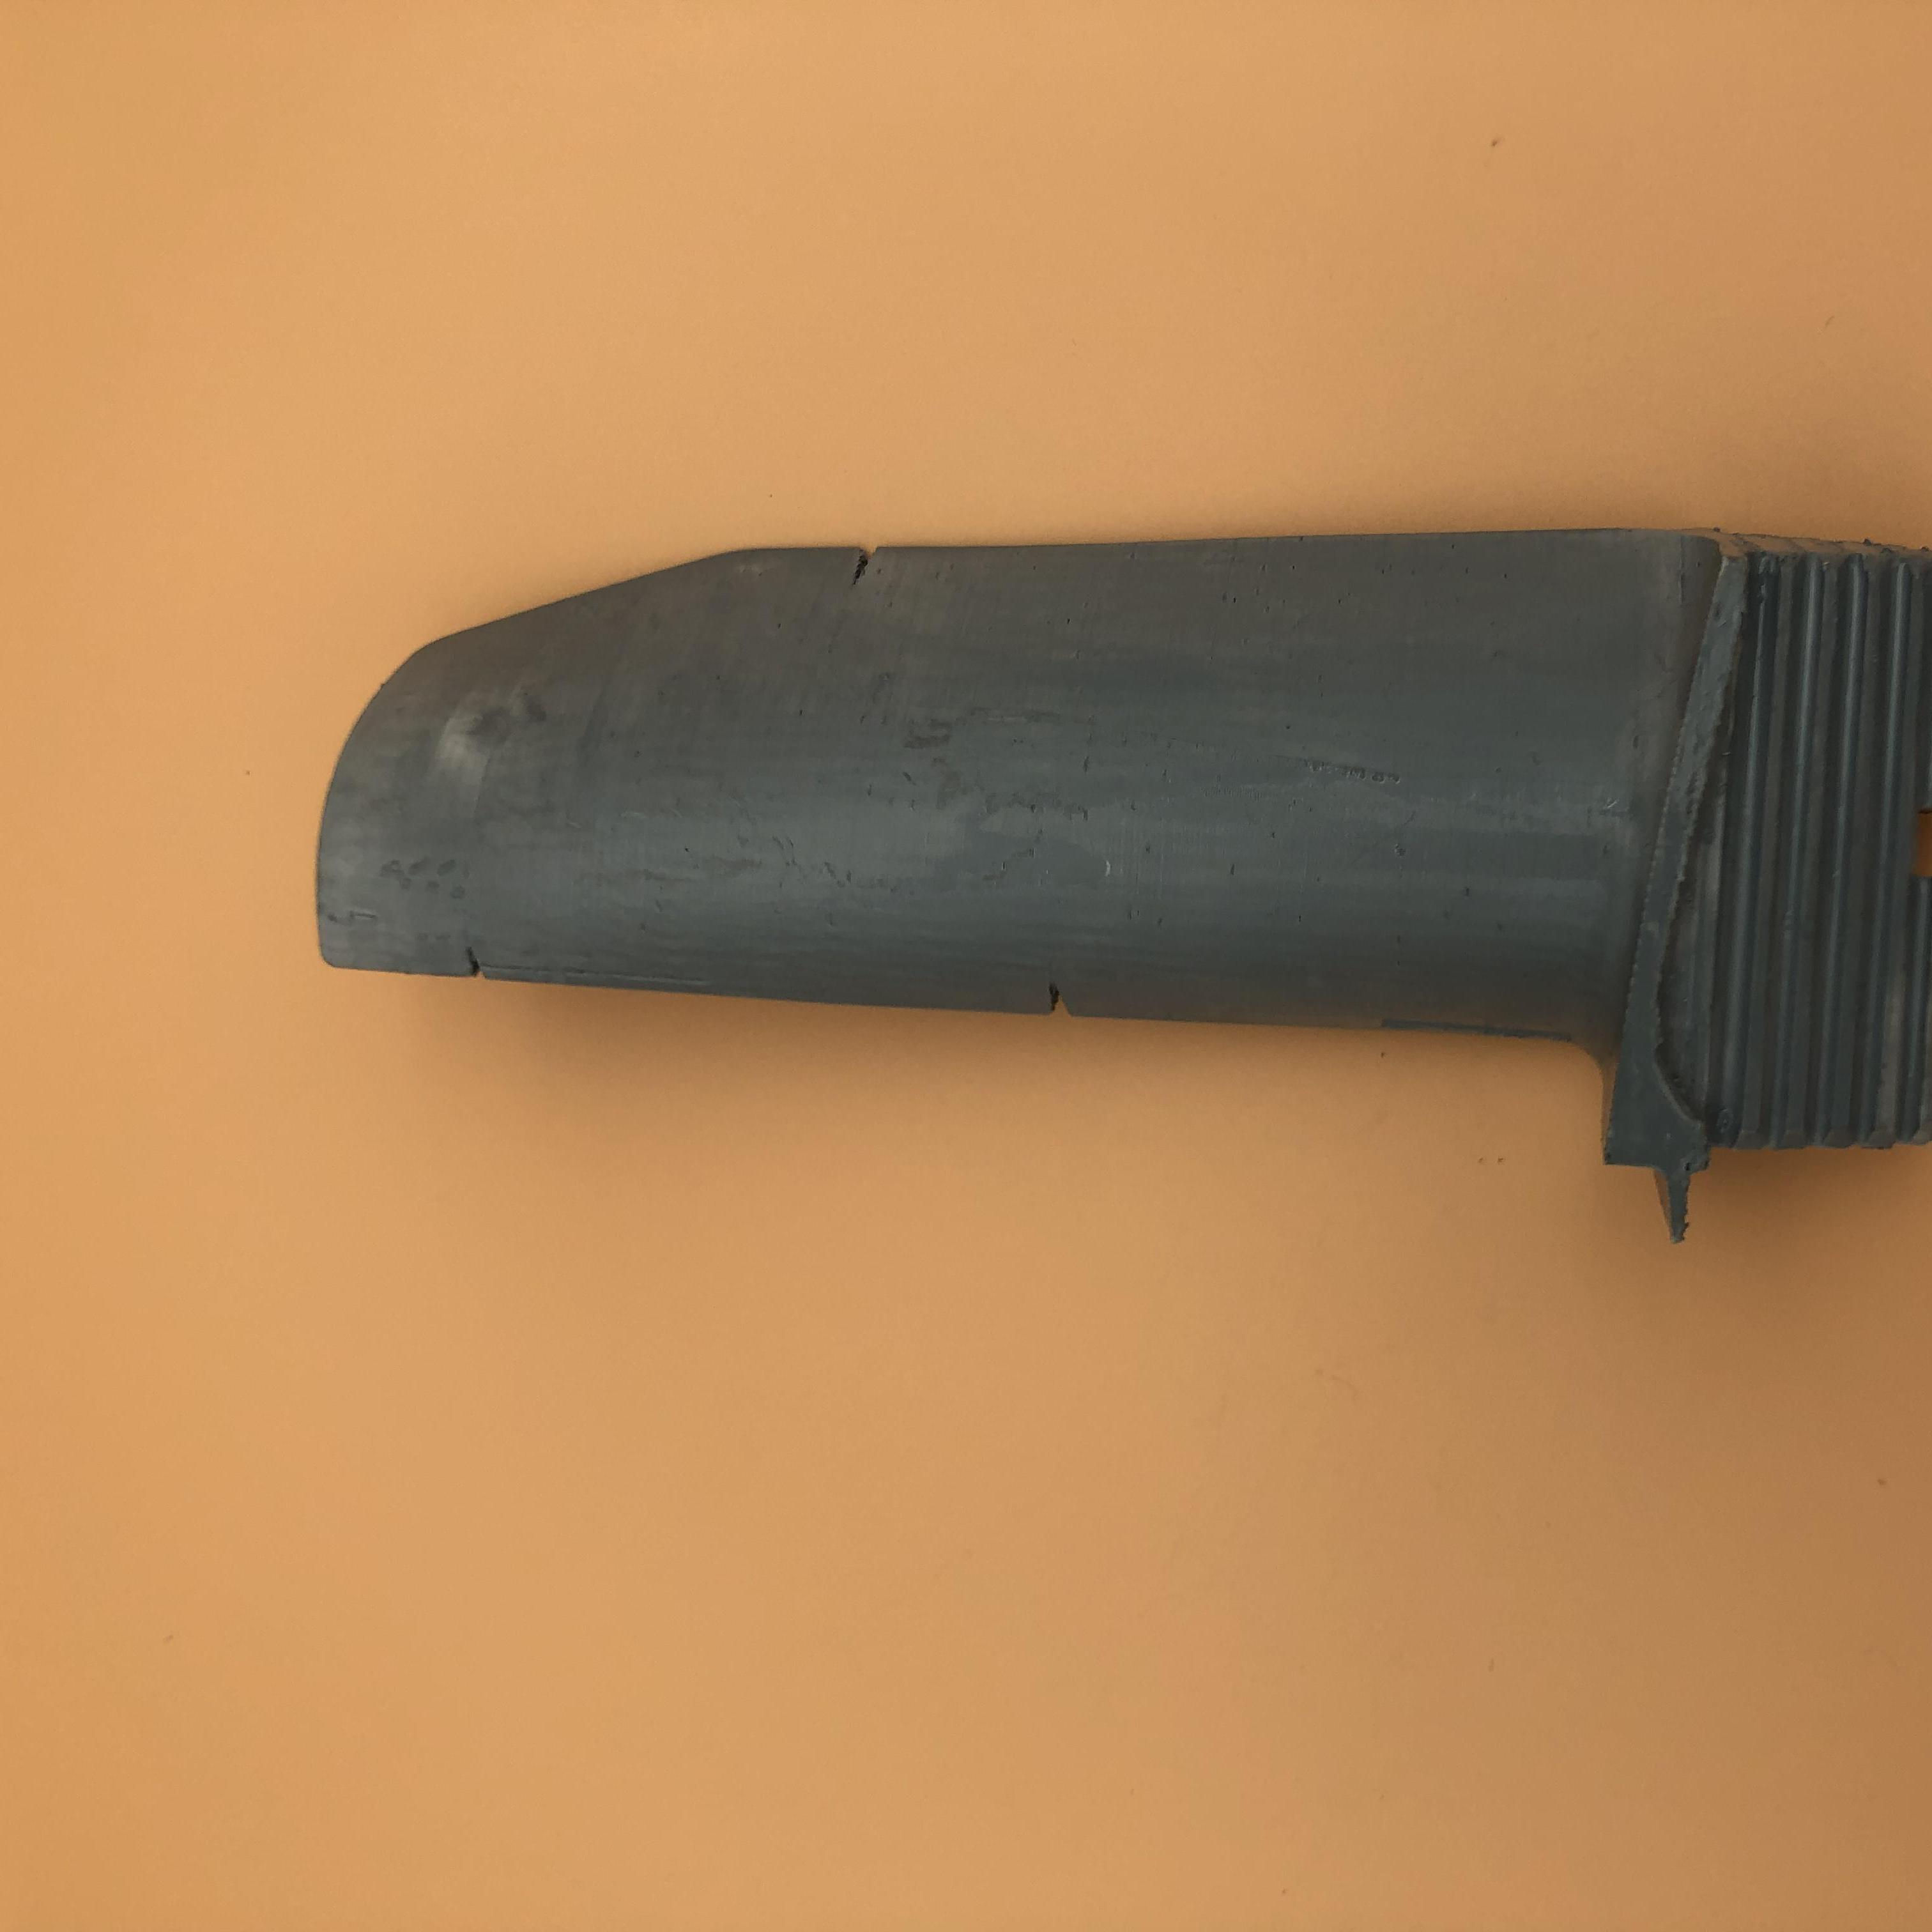groove: (830, 548, 911, 589), (453, 943, 511, 980), (1039, 980, 1102, 1014)
